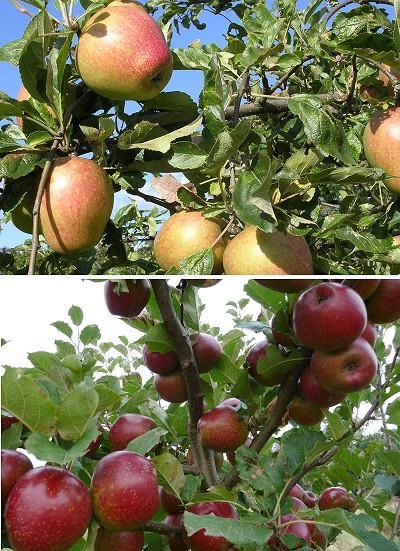apple: (75, 1, 172, 104), (34, 152, 114, 253), (4, 463, 92, 550), (90, 449, 159, 531), (292, 282, 367, 353), (222, 225, 313, 278), (153, 209, 220, 274), (310, 336, 378, 395), (197, 401, 246, 455), (102, 274, 151, 319), (107, 415, 155, 452), (154, 367, 193, 404), (189, 334, 222, 374), (142, 344, 175, 373)
